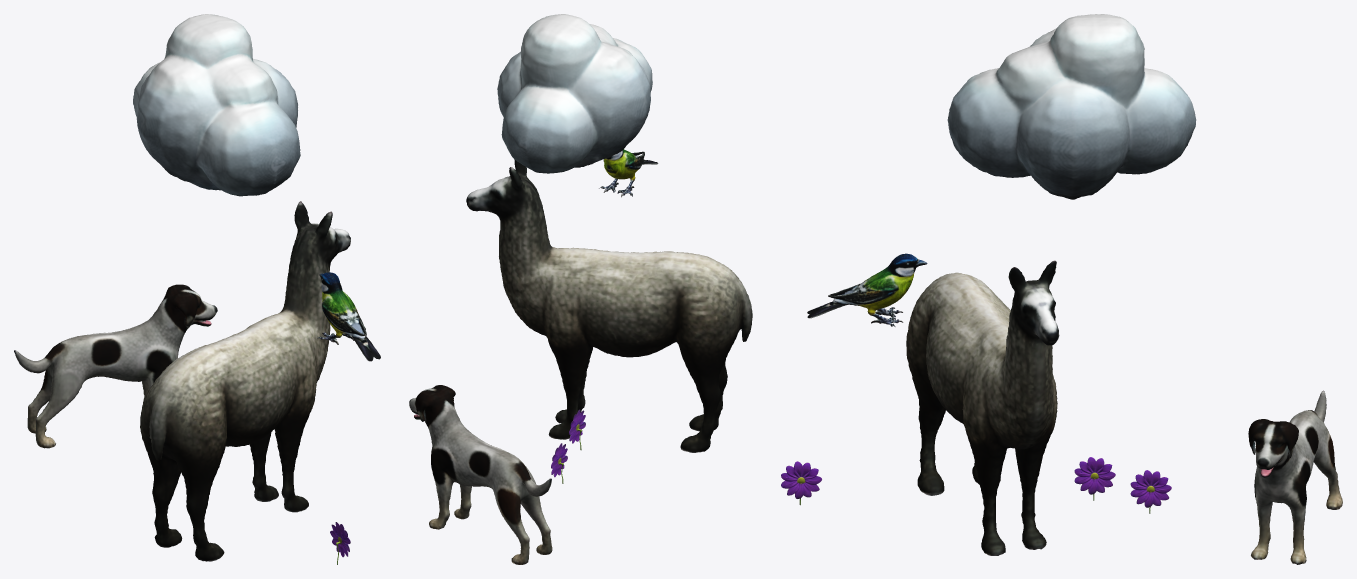
File: llama4.glb
3 renders of one model, left to right at view 1: azimuth 30°, elevation 25°; view 2: azimuth 150°, elevation 25°; view 3: azimuth 270°, elevation 25°, orthographic. The views are drawn at different scales.
Parts seen in each view (by area): view 1: Mesh_0.004, Mesh_0, Mesh_0.001, Mesh_0.002, Mesh_0.005; view 2: Mesh_0.004, Mesh_0, Mesh_0.001, Mesh_0.002; view 3: Mesh_0, Mesh_0.004, Mesh_0.001, Mesh_0.002, Mesh_0.006, Mesh_0.005, Mesh_0.003.
Boxes of the visible parts, x1,y1,x2,y2 form: Mesh_0.004: (140,201,350,561); Mesh_0: (133,14,300,196); Mesh_0.001: (14,284,217,448); Mesh_0.002: (317,272,380,361); Mesh_0.005: (330,522,350,564); Mesh_0.004: (466,159,752,452); Mesh_0: (497,14,652,173); Mesh_0.001: (409,385,552,564); Mesh_0.002: (599,149,658,197); Mesh_0: (947,14,1196,199); Mesh_0.004: (906,260,1059,555); Mesh_0.001: (1248,390,1342,564); Mesh_0.002: (807,253,927,326); Mesh_0.006: (1130,470,1171,513); Mesh_0.005: (781,461,821,505); Mesh_0.003: (1074,457,1115,500).
Bounding box in the file's own units: 18.83 × 34.23 × 33.43.
Materials: 5 (5 with a texture image).
